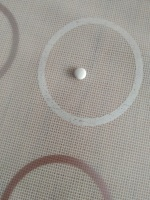Yuvarlak Buskopan: (73, 66, 87, 81)
